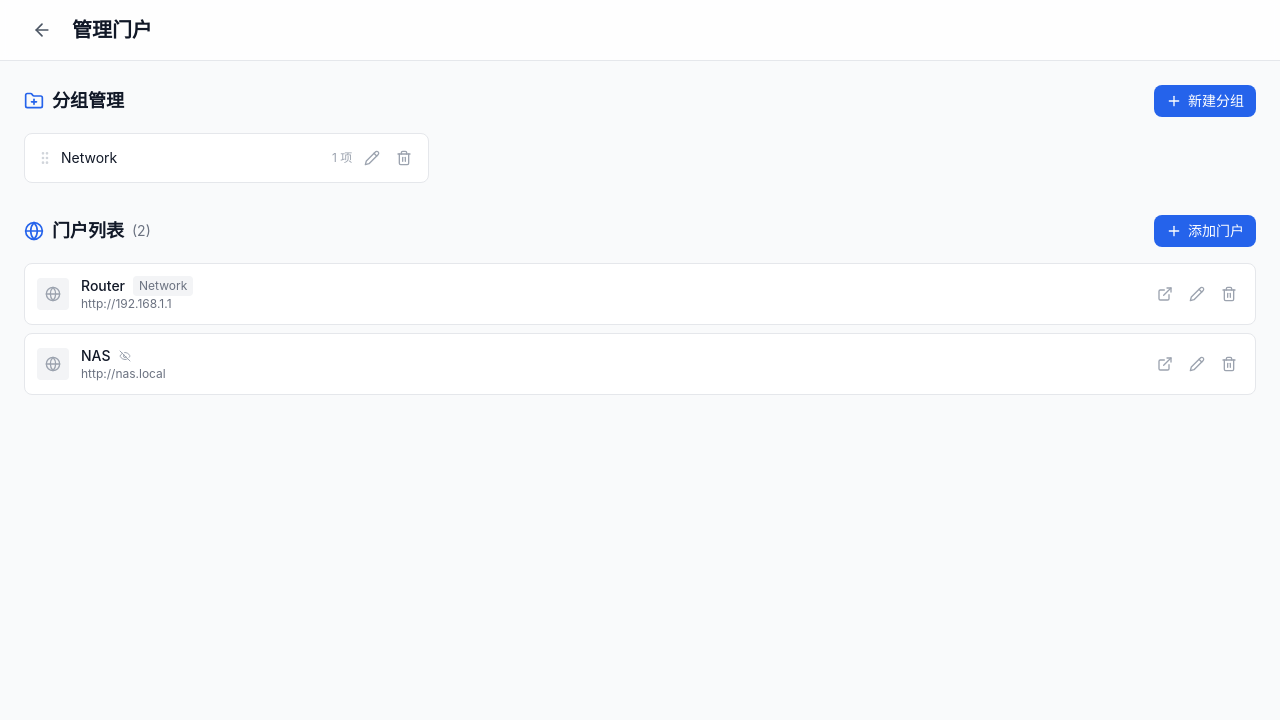
Admin page › shows new portal form when add button clicked
expect the text "Router" is shown: met, box [81,276,125,296]
Click the button "添加门户": (1205, 231) [1154,215,1256,247]
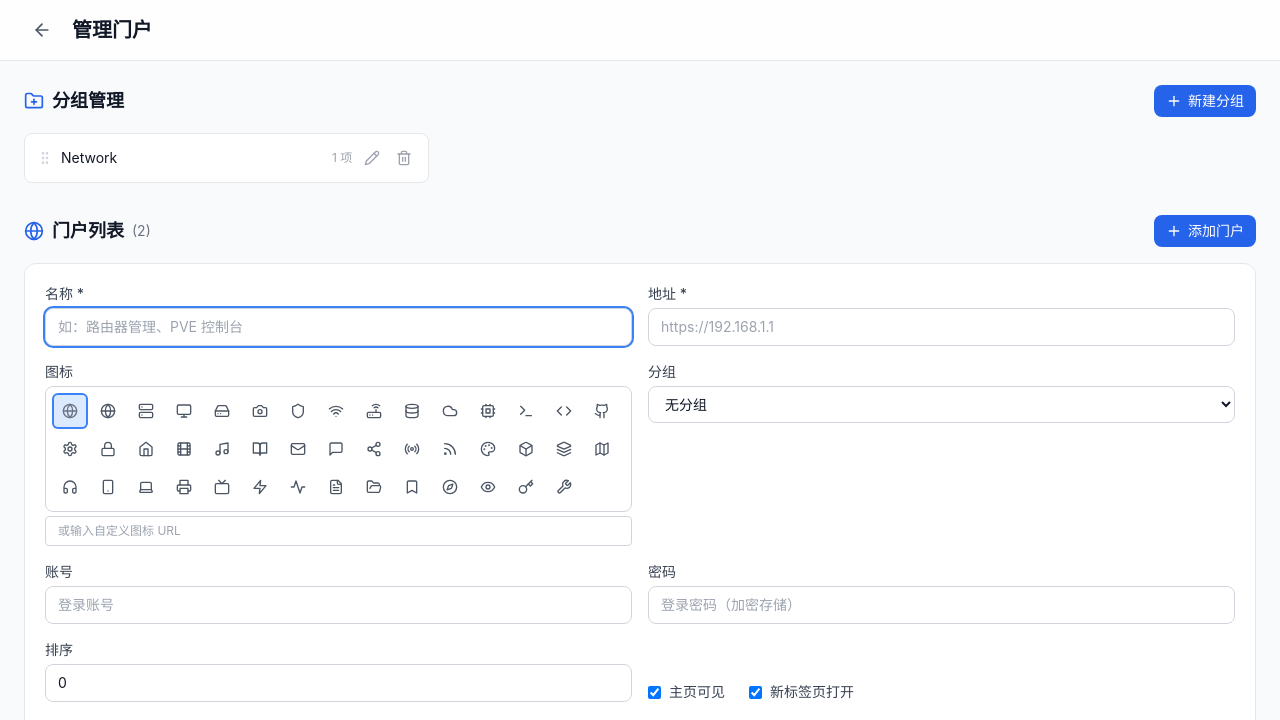
expect the field with placeholder "如：路由器管理、PVE 控制台" is shown: met, box [45,308,632,346]
expect the field with placeholder "https://192.168.1.1" is shown: met, box [648,308,1235,346]
